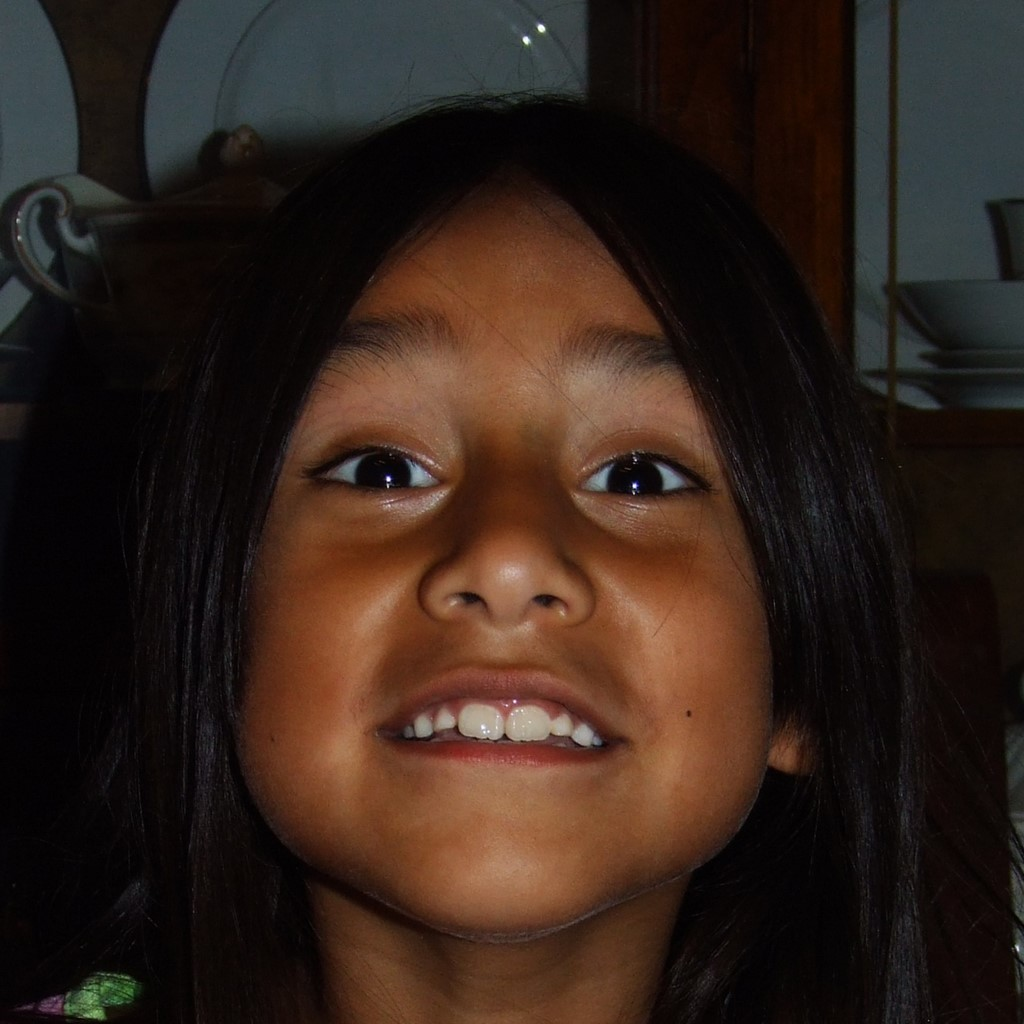sin_mascara: (235, 230, 771, 934)
